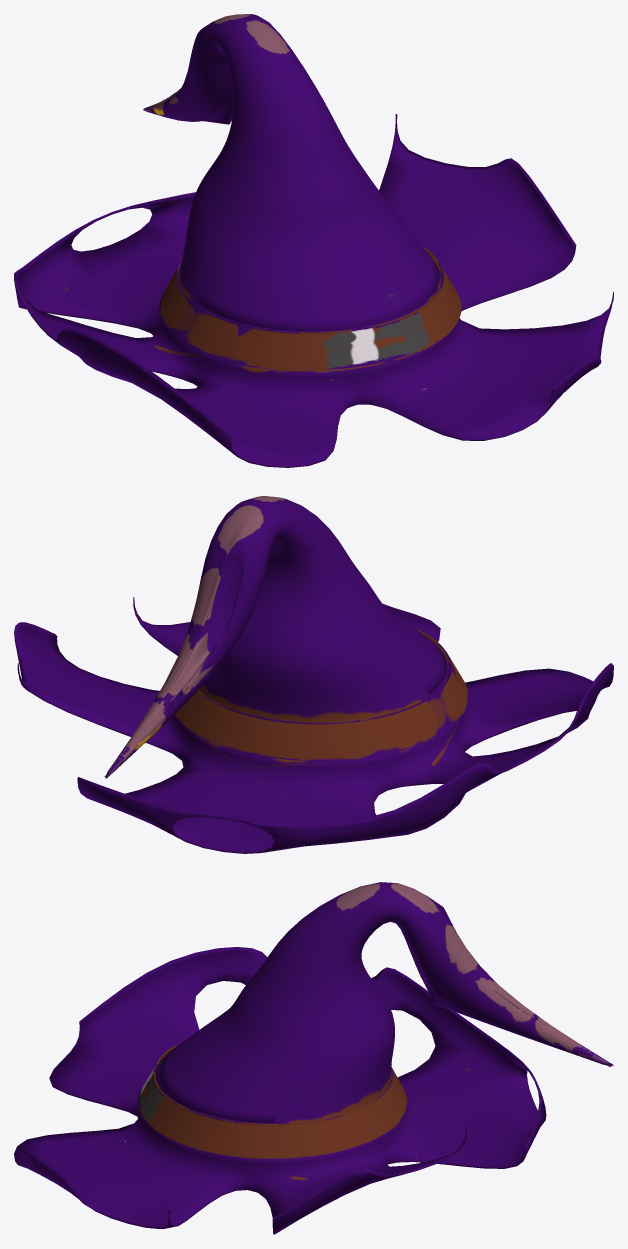
File: Maguso_SomewhatTornHat_WithHatRing.fbx
3 views of the same model, one above another, from view 1: azimuth 30°, elevation 25°; view 2: azimuth 150°, elevation 25°; view 3: azimuth 270°, elevation 25° (orthographic). The views are drawn at different scales.
Parts seen in each view (by area): view 1: Circle, Circle.001; view 2: Circle, Circle.001; view 3: Circle, Circle.001.
Part boxes in pixels (box(x1,y1,x2,y2)): Circle: box(14, 14, 613, 467); Circle.001: box(159, 250, 461, 371); Circle: box(14, 496, 613, 853); Circle.001: box(174, 633, 469, 760); Circle: box(14, 882, 613, 1234); Circle.001: box(137, 1043, 407, 1158).
Size of the model in its own units: 400 by 205 by 447.
